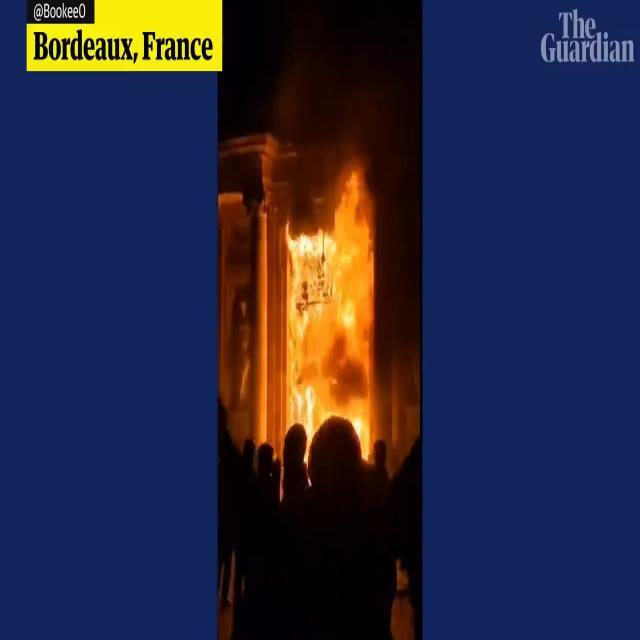Fire: (284, 150, 378, 466)
